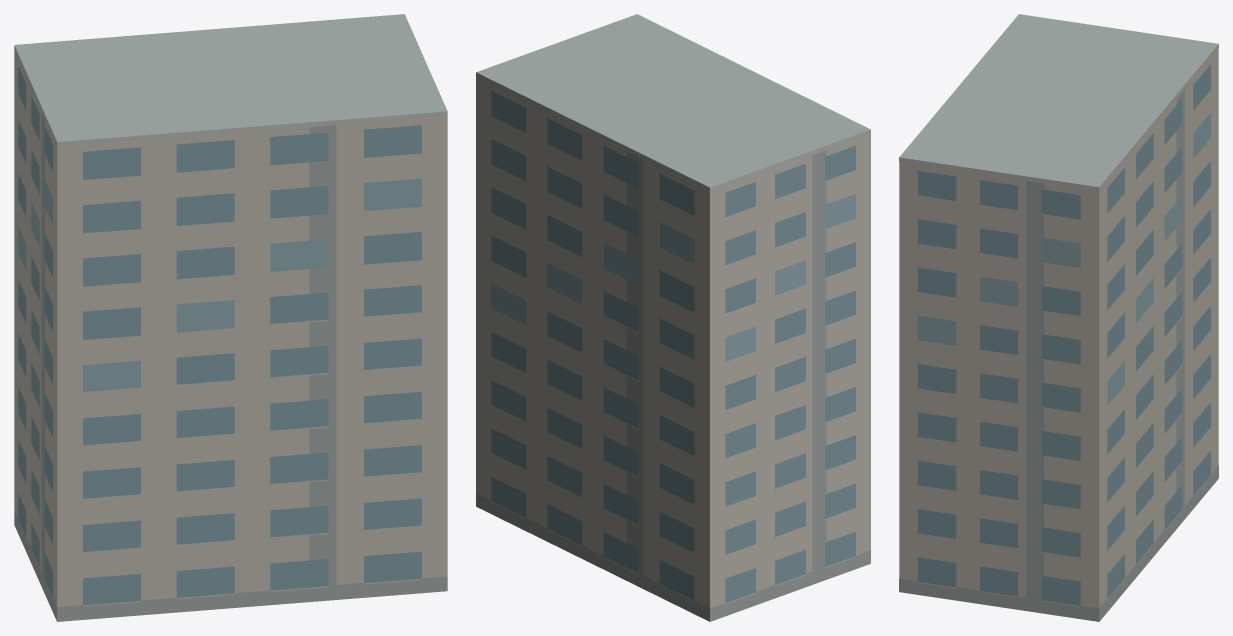
Rendered from residential-f4d3917c-db18-4ef6-b8f6-9c80184fa53e.glb.
3 views of the same model, side by side, from view 1: azimuth 30°, elevation 25°; view 2: azimuth 150°, elevation 25°; view 3: azimuth 270°, elevation 25° (orthographic). The views are drawn at different scales.
Parts seen in each view (by area): view 1: residential-f4d3917c-db18-4ef6-b8f6-9c80184fa53e.tmp; view 2: residential-f4d3917c-db18-4ef6-b8f6-9c80184fa53e.tmp; view 3: residential-f4d3917c-db18-4ef6-b8f6-9c80184fa53e.tmp.
Part boxes in pixels (box(x1,y1,x2,y2)): residential-f4d3917c-db18-4ef6-b8f6-9c80184fa53e.tmp: box(14, 14, 447, 621); residential-f4d3917c-db18-4ef6-b8f6-9c80184fa53e.tmp: box(476, 14, 870, 621); residential-f4d3917c-db18-4ef6-b8f6-9c80184fa53e.tmp: box(899, 14, 1218, 621).
Bounding box in the file's own units: 19.67 × 23 × 15.34.
